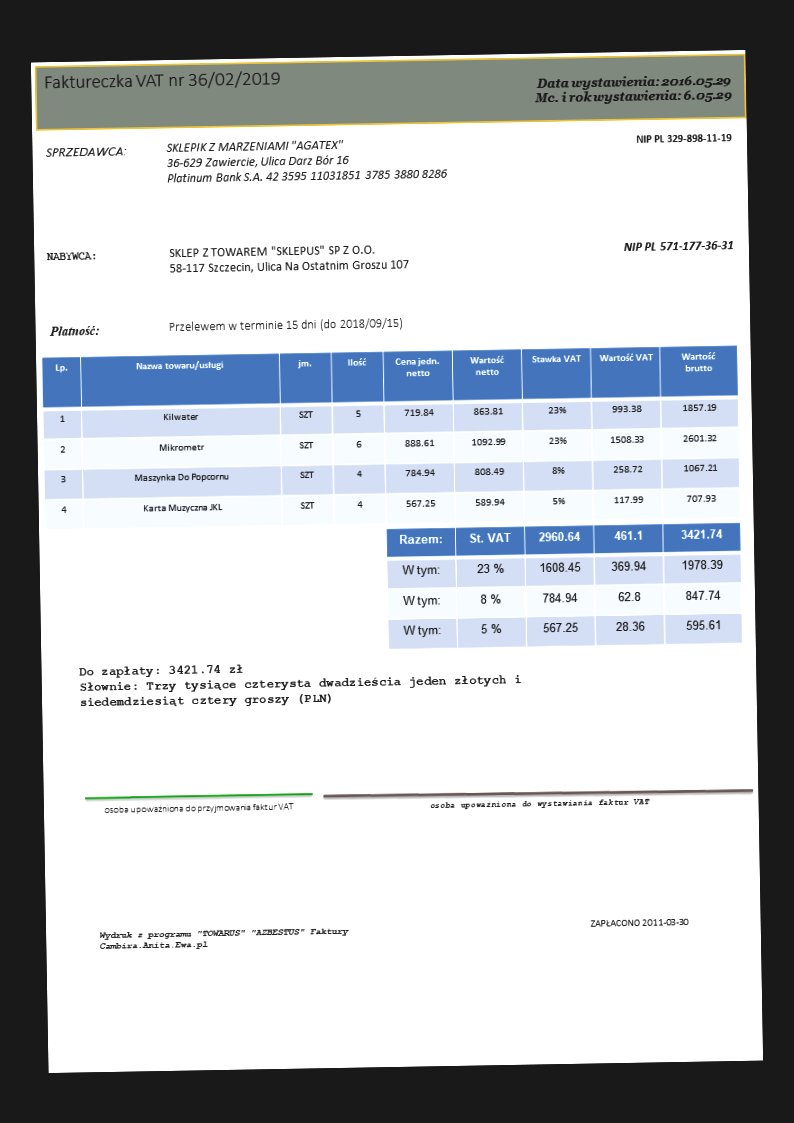Table: (40, 344, 740, 532), (386, 522, 742, 651)
TextBox: (76, 656, 526, 712), (162, 133, 450, 191), (166, 241, 411, 277), (531, 70, 735, 110), (96, 925, 353, 954), (40, 66, 283, 93), (166, 316, 405, 336), (427, 795, 652, 812), (101, 800, 295, 816), (621, 237, 735, 255), (633, 129, 732, 148), (41, 142, 128, 162), (588, 914, 691, 930), (43, 248, 97, 265), (47, 322, 101, 339)
